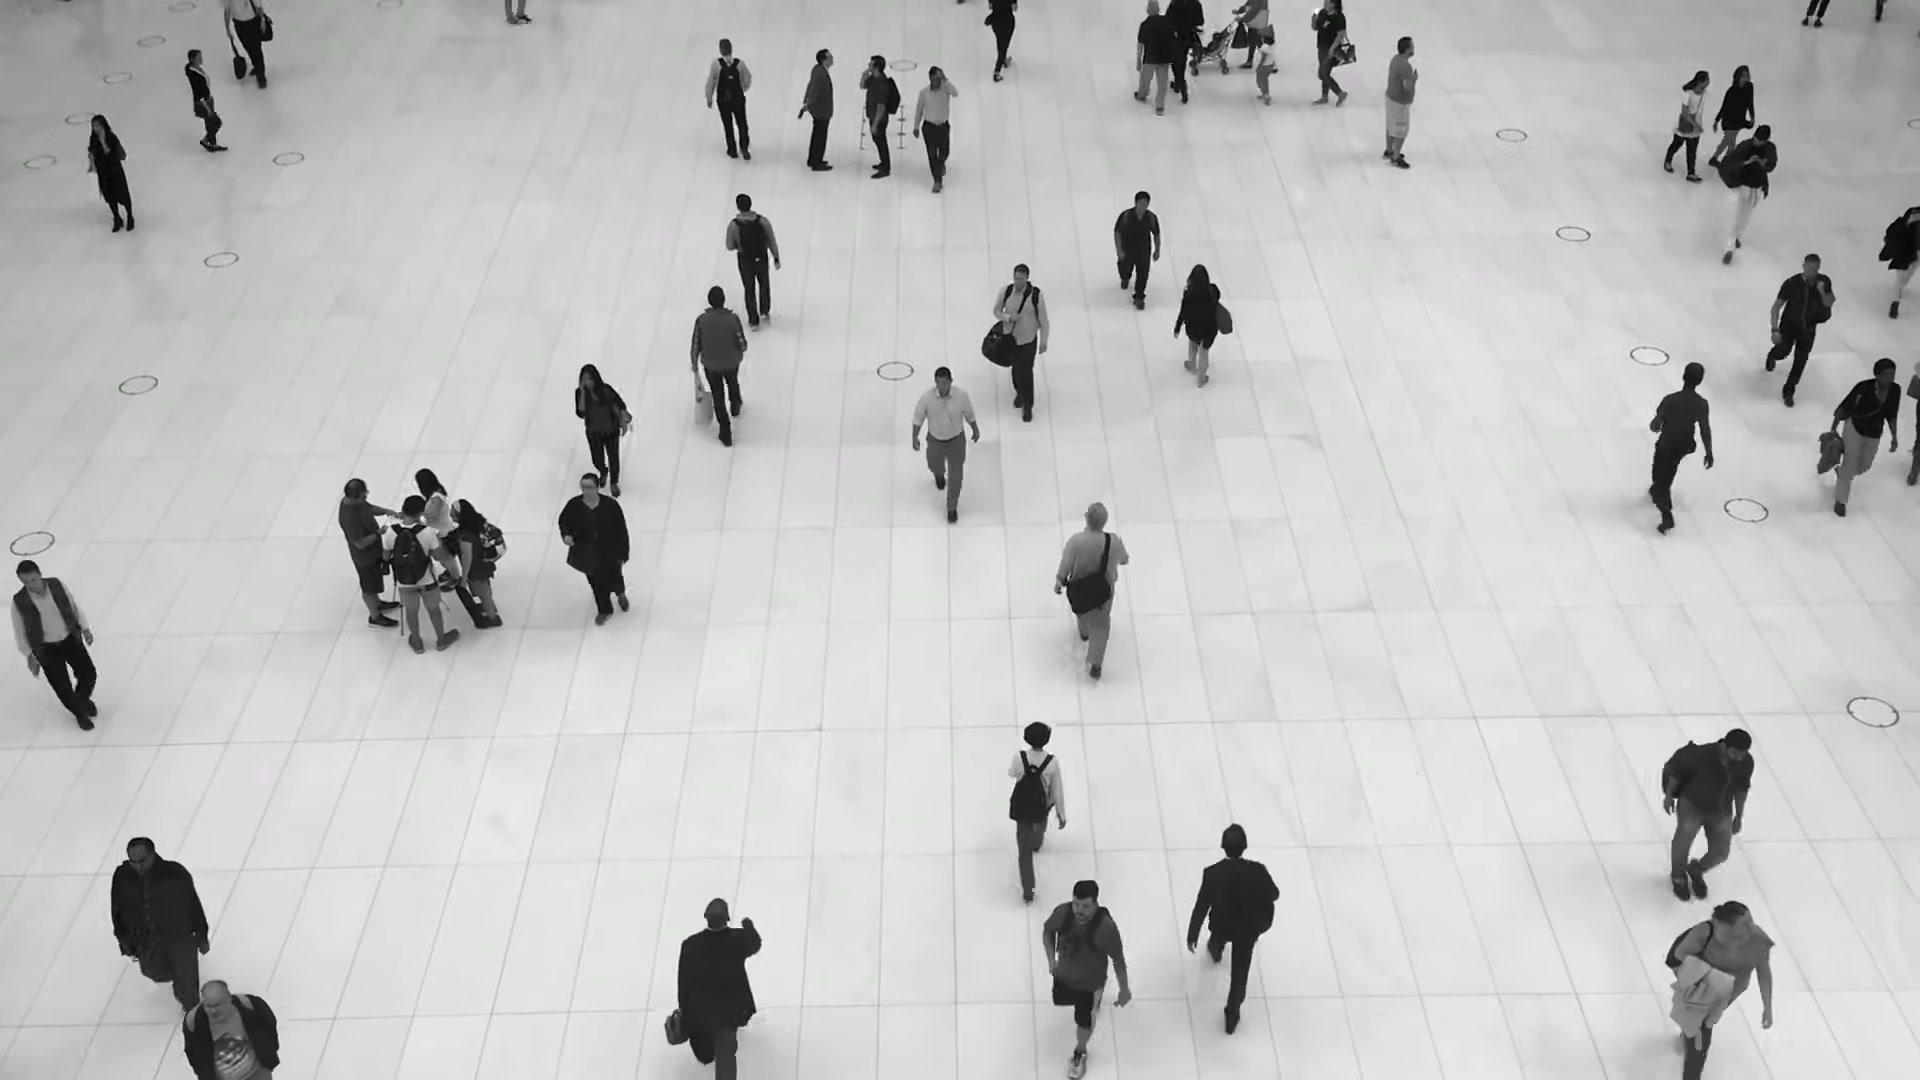person: (111, 840, 208, 1052), (660, 893, 763, 1079), (1186, 821, 1278, 1029), (1040, 877, 1133, 1080), (1658, 733, 1754, 915), (13, 561, 111, 738), (1665, 904, 1770, 1061), (556, 474, 640, 635), (1825, 358, 1901, 525), (1054, 499, 1130, 661), (382, 494, 458, 653), (1643, 359, 1714, 519), (1764, 251, 1836, 404), (181, 977, 283, 1079), (914, 363, 981, 515), (1007, 716, 1067, 880), (338, 477, 400, 629), (691, 285, 748, 447), (993, 267, 1049, 424), (1714, 123, 1775, 263), (728, 195, 784, 336), (449, 498, 502, 628), (573, 366, 631, 485), (1108, 190, 1163, 310), (706, 38, 754, 165), (1662, 69, 1714, 183), (913, 65, 958, 195), (1172, 265, 1219, 391), (86, 113, 135, 232), (413, 468, 459, 592), (1132, 0, 1179, 114), (858, 54, 901, 180), (184, 48, 234, 153), (1382, 34, 1420, 168), (1705, 64, 1753, 165), (799, 48, 835, 171), (1164, 0, 1204, 104), (1309, 0, 1347, 108), (1239, 0, 1278, 69), (1251, 32, 1276, 104)
